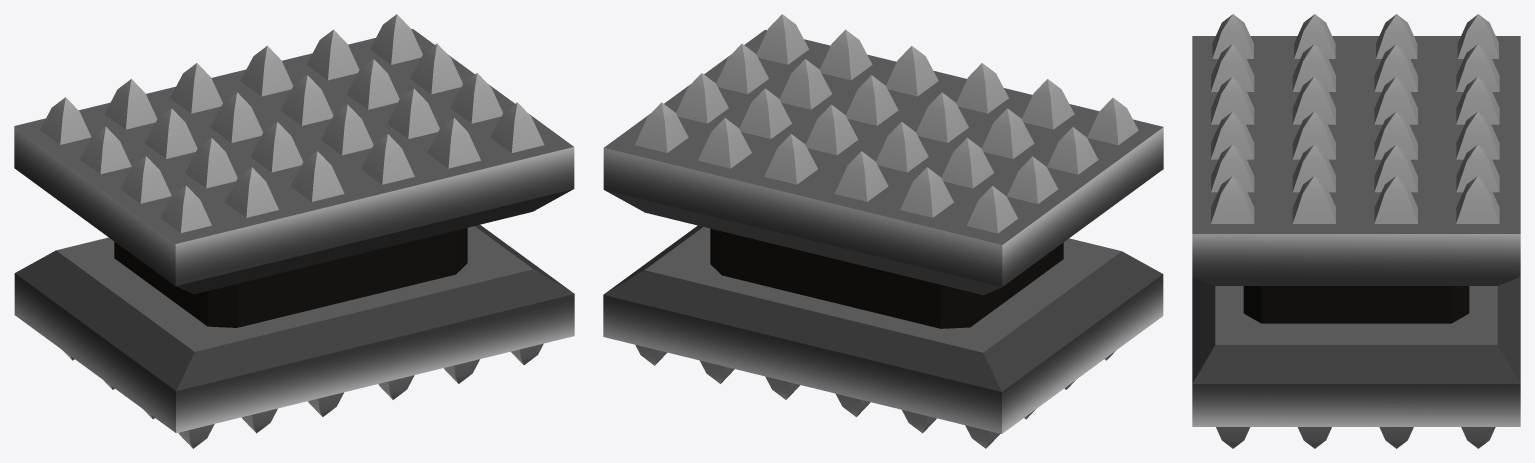
Rendered from Ecraseur_01E.FBX.
The picture shows the model from 3 angles, left to right: view 1: azimuth 30°, elevation 25°; view 2: azimuth 150°, elevation 25°; view 3: azimuth 270°, elevation 25°; orthographic projection.
Visible parts, largest first — view 1: Pyramid062; view 2: Pyramid062; view 3: Pyramid062.
Part boxes in pixels (x1,y1,x2,y2): Pyramid062: (14,14,574,448); Pyramid062: (603,14,1163,448); Pyramid062: (1192,14,1520,448).
Bounding box in the file's own units: 10.99 × 7.04 × 7.69.
